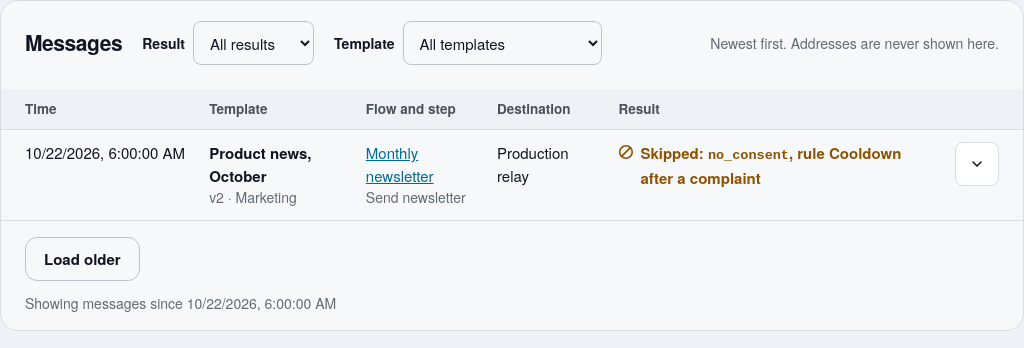
the message log of a person › moves focus to the first row that Load older brought in
This screenshot has width=1024, height=348.
Expected: the row named "Skipped" is shown, [1,130,1023,220]
Click the button "Load older".
click(82, 259)  # box [25,237,140,281]
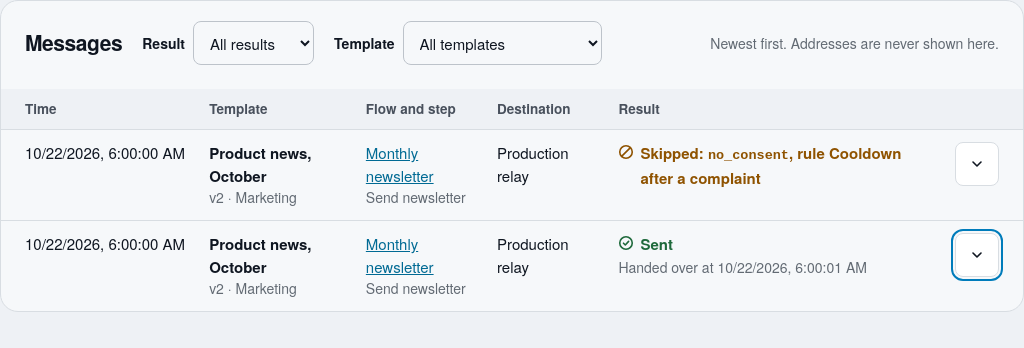
Expected: the number of rows is 3, [1,89,1023,129]; [1,130,1023,221]; [1,221,1023,311]
